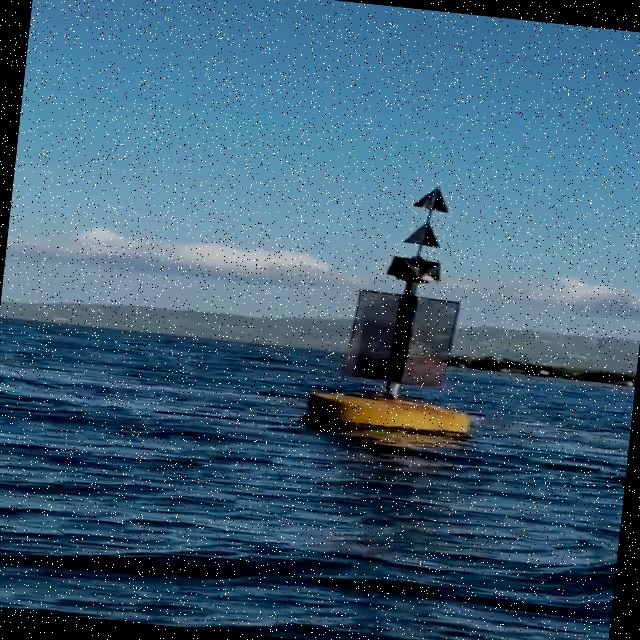marque: (306, 170, 509, 446)
